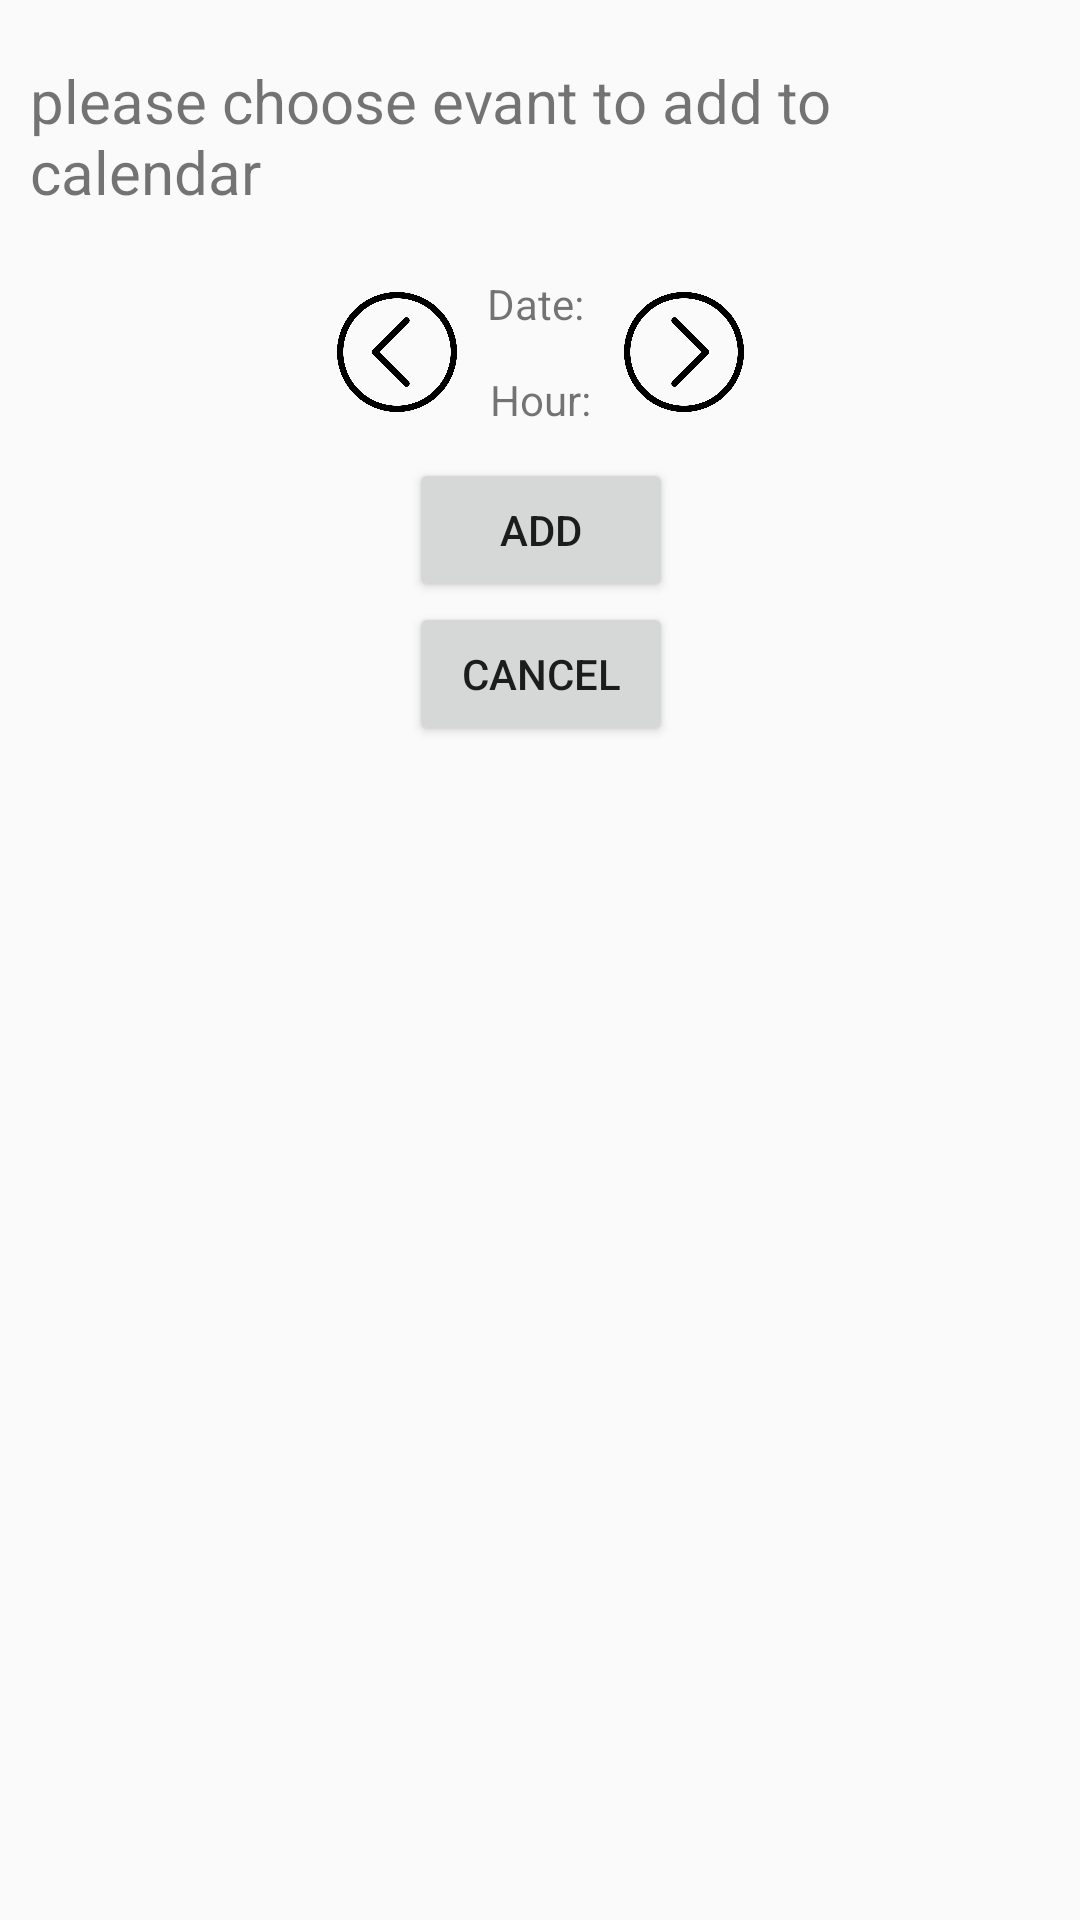

Where icons sit on this 1080 × 1920 app screen, as (x1, y1, x2, y2):
left: (337, 292, 457, 412)
right: (624, 292, 744, 412)
